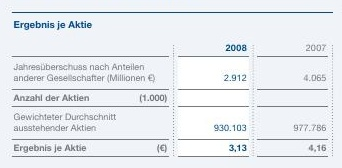table: (0, 0, 342, 168)
